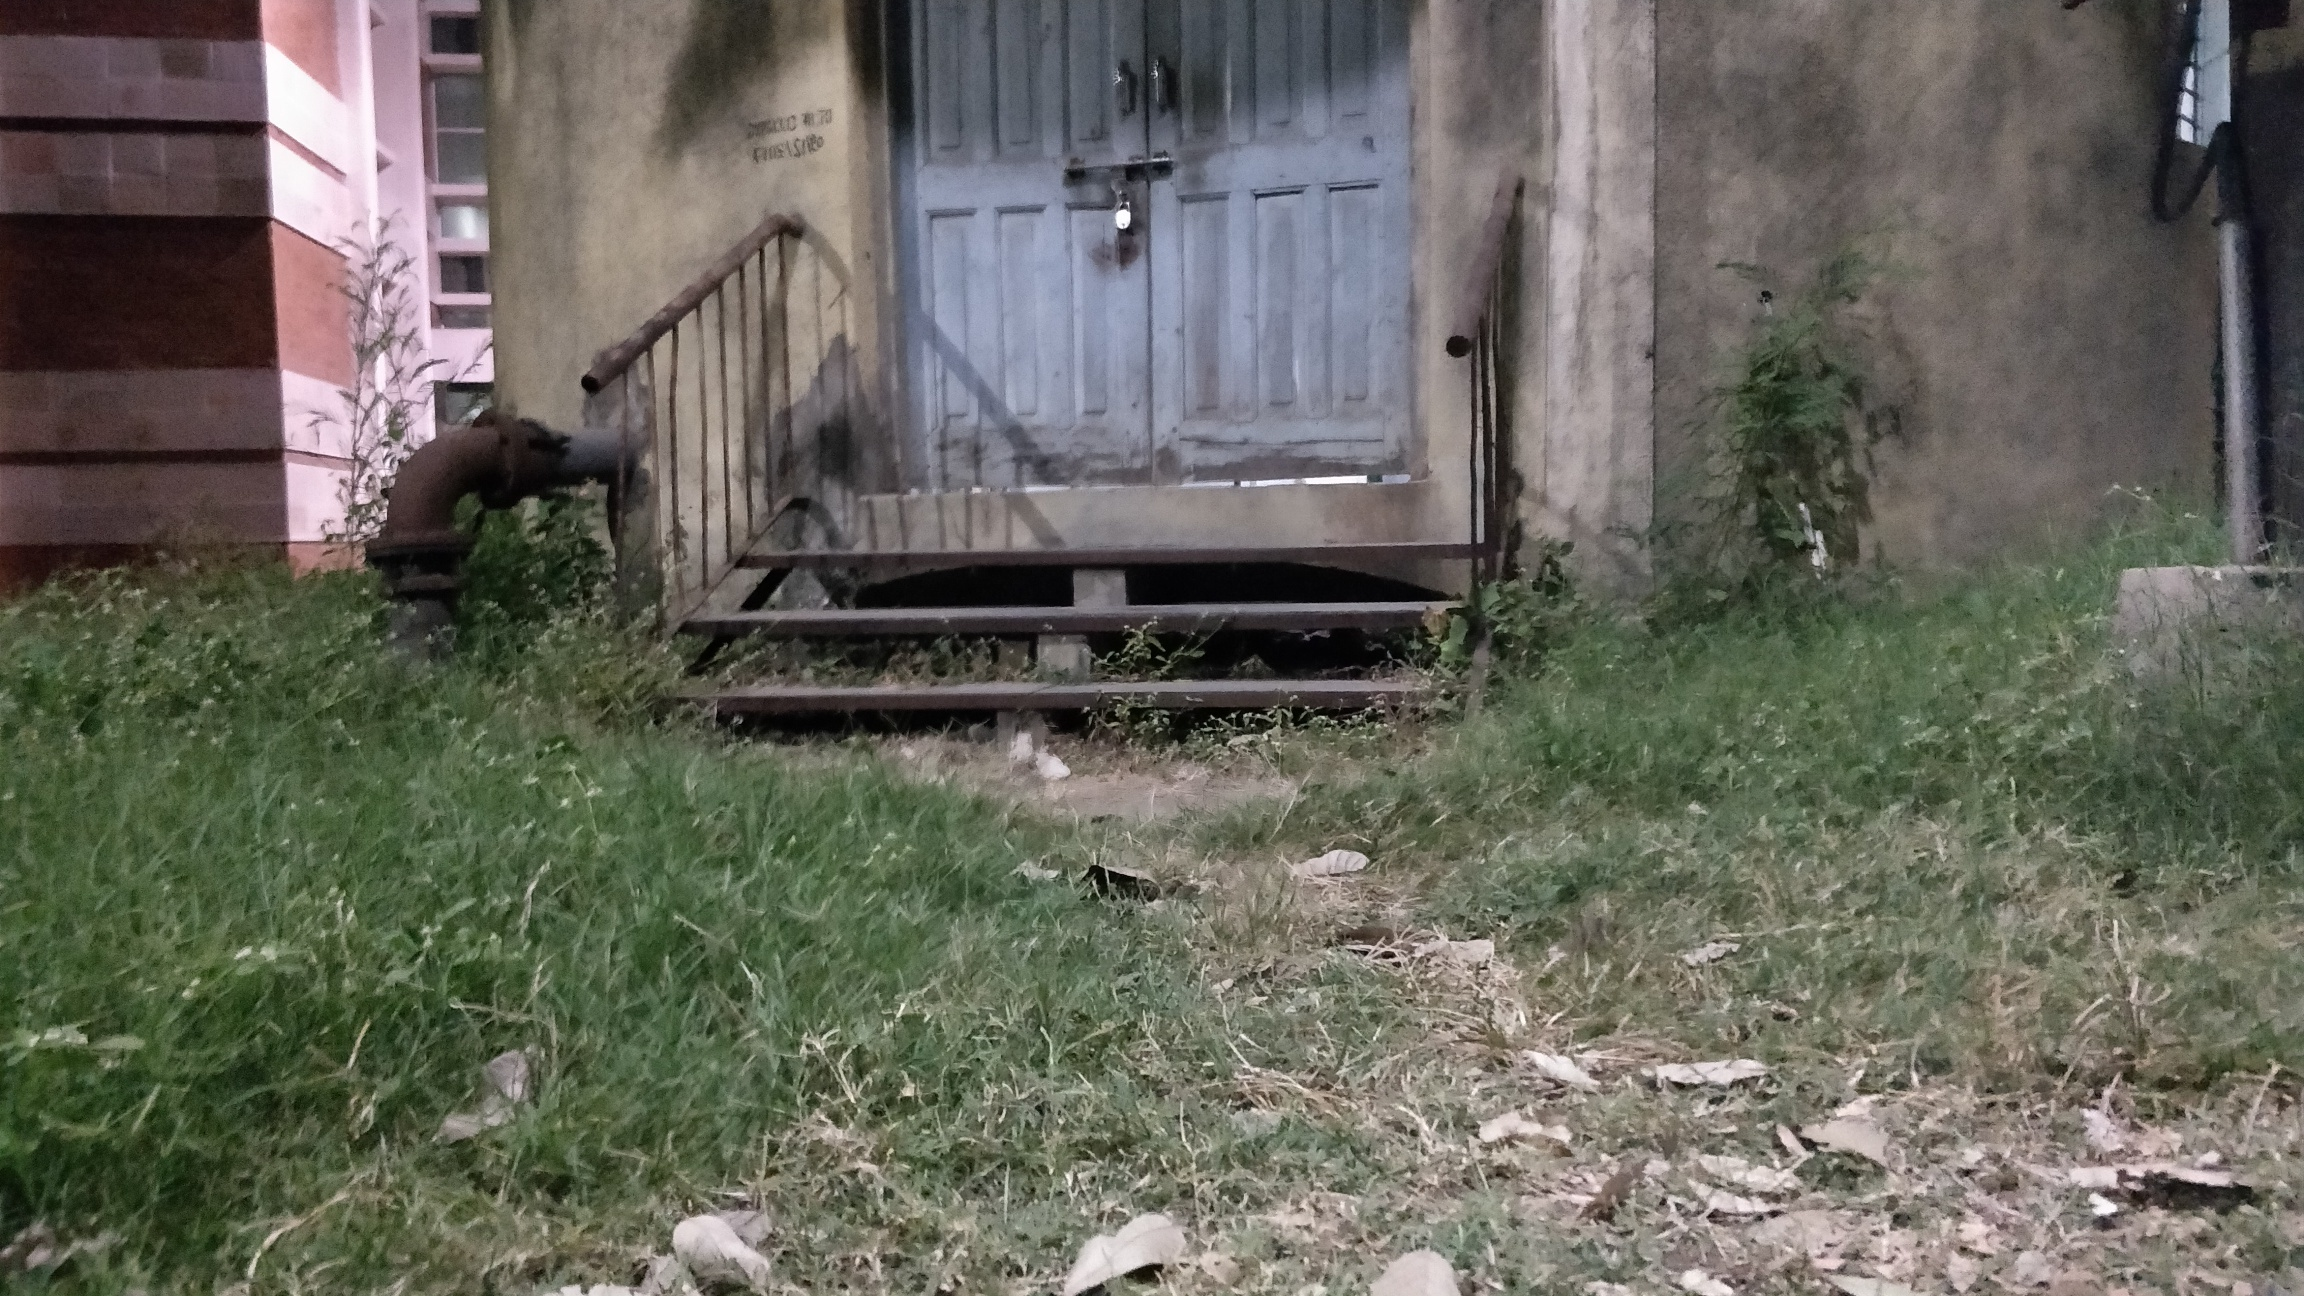stairs_up: (646, 548, 1481, 726)
